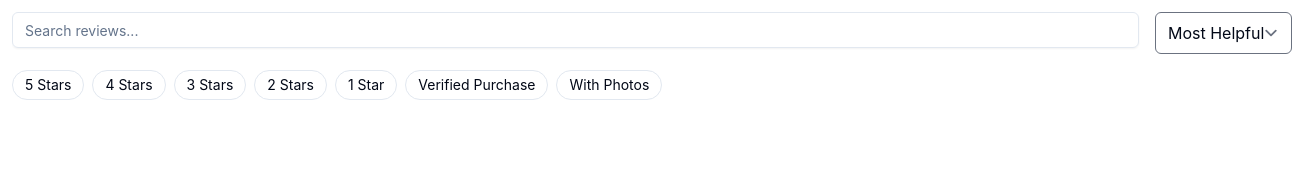
Test: ReviewFiltersBar › should show clear filters when filters active
Click the button with test id "filter-rating-5".
click(48, 85)  # box [12, 70, 84, 100]
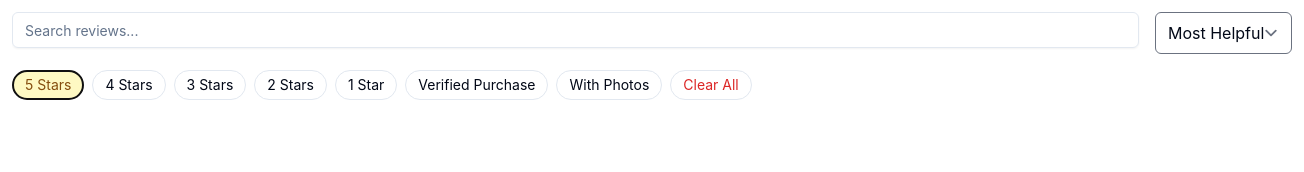
Expected: the button with test id "clear-filters" is shown, [670, 70, 752, 100]
